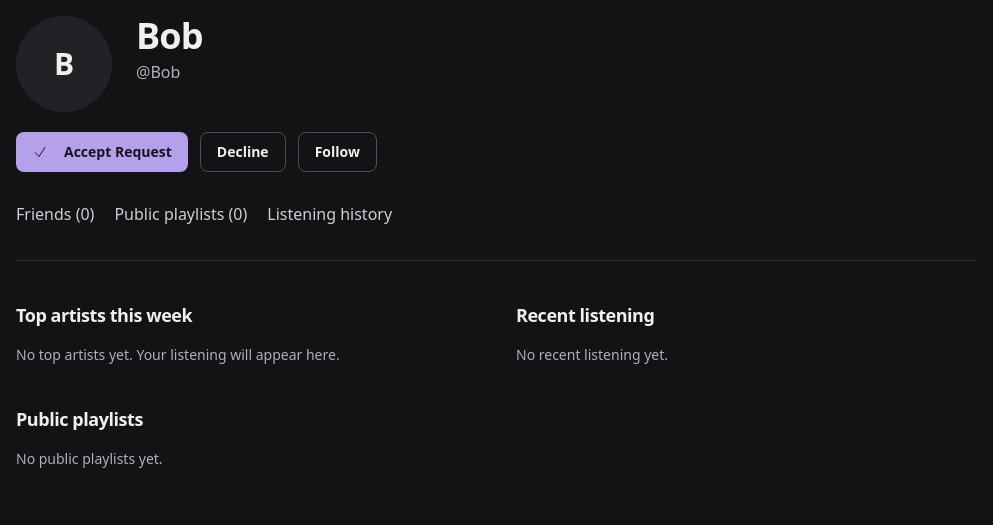
Test: profile friend controls › refreshes a stale pending action bob/Decline while retaining its failure feedback
The image size is (993, 525).
Click the button "Decline": x=243, y=152 [200,132,286,172]
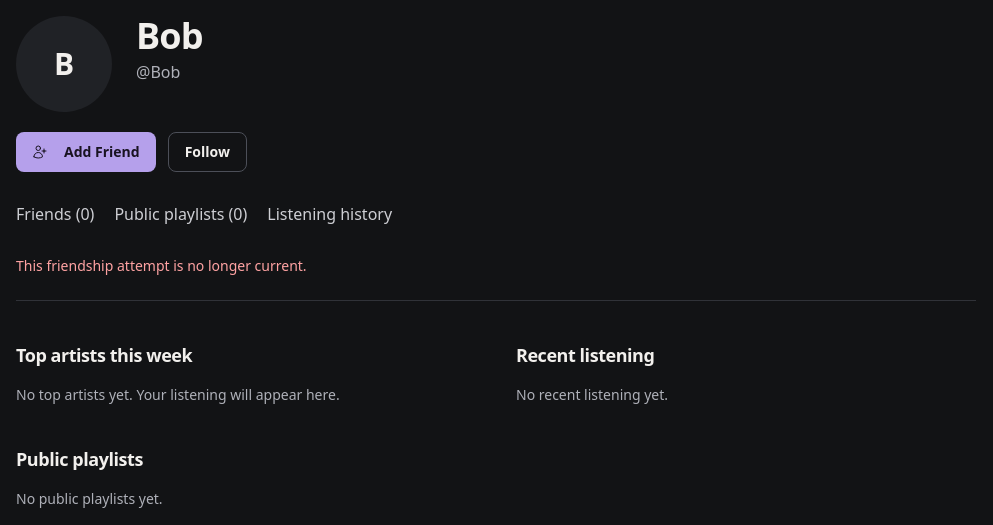
Check: the button "Add Friend" is shown, box [16,132,156,172]
Check: the text "This friendship attempt is no longer current." is shown, box [16,256,307,275]
